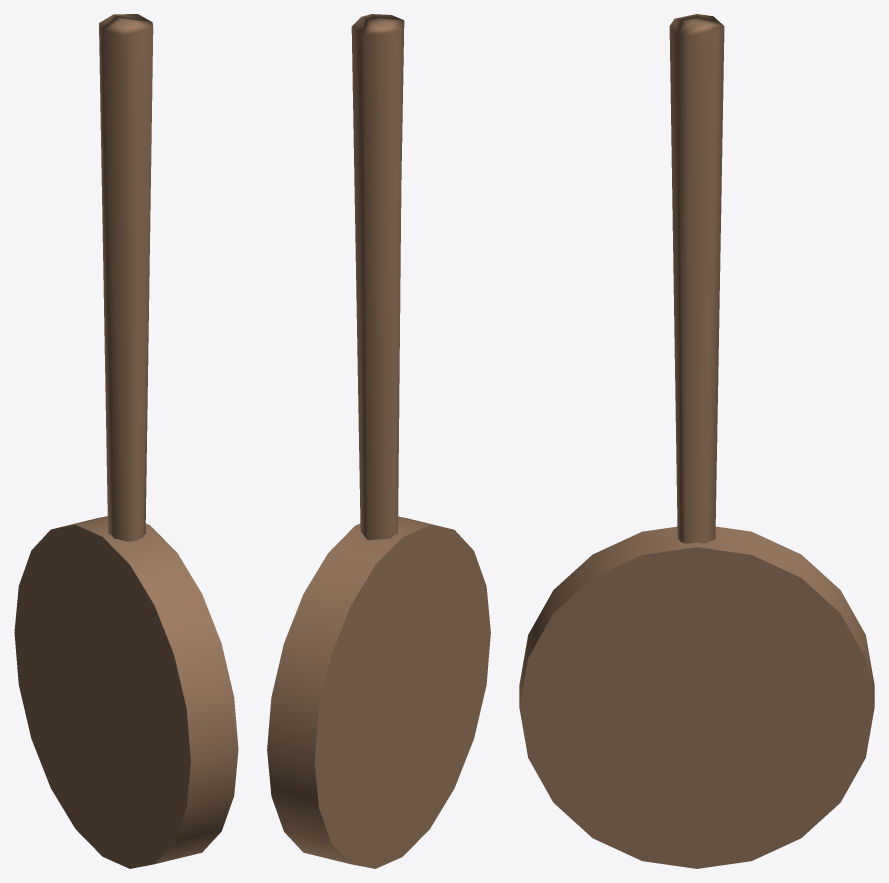
Rendered from Lever Handle.fbx.
3 views of the same model, side by side, from view 1: azimuth 30°, elevation 25°; view 2: azimuth 150°, elevation 25°; view 3: azimuth 270°, elevation 25° (orthographic).
Parts seen in each view (by area): view 1: pCylinder7; view 2: pCylinder7; view 3: pCylinder7.
Boxes of the visible parts, x1=… form: pCylinder7: x1=14, y1=14, x2=238, y2=868; pCylinder7: x1=267, y1=14, x2=490, y2=868; pCylinder7: x1=519, y1=14, x2=874, y2=868.
Bounding box in the file's own units: 0.2494 × 4.15 × 1.6.
